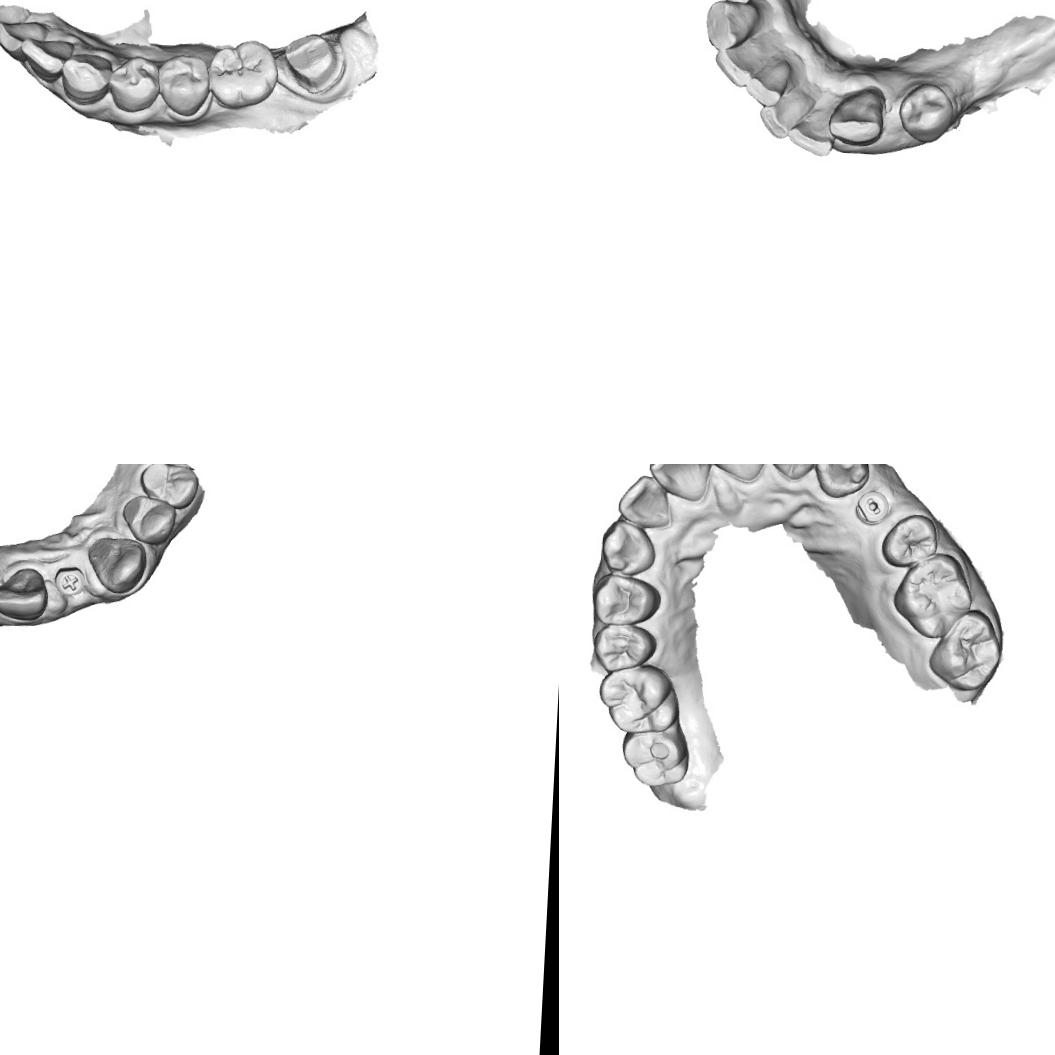canine: (826, 82, 888, 148), (84, 535, 148, 595), (598, 516, 658, 578), (57, 44, 114, 108), (702, 0, 765, 51), (812, 464, 870, 499)
crown: (280, 28, 344, 94)
implant_minus: (854, 490, 888, 526)
implant_plus: (53, 565, 86, 598)
incisor: (614, 472, 674, 529), (757, 88, 811, 141), (0, 564, 49, 621), (16, 35, 72, 84), (784, 108, 838, 158), (742, 59, 792, 110), (645, 464, 711, 502), (713, 38, 761, 88), (0, 16, 48, 63), (702, 464, 767, 485), (764, 464, 819, 481)
molar: (888, 549, 976, 641), (927, 605, 1004, 694), (593, 662, 683, 736), (206, 37, 280, 110), (619, 721, 691, 788)
premolar: (894, 78, 956, 146), (589, 572, 663, 626), (879, 510, 941, 572), (156, 52, 210, 118), (104, 55, 162, 116), (590, 623, 658, 674), (120, 493, 178, 546), (137, 464, 199, 510)
